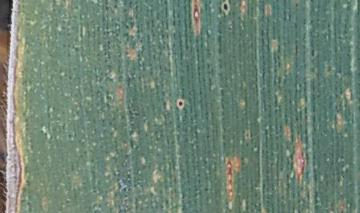tarspot: (219, 1, 233, 19), (174, 94, 187, 112), (241, 126, 254, 144)
